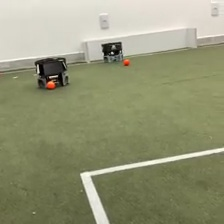ball: (45, 79, 56, 91), (122, 56, 130, 66)
goal: (82, 24, 199, 65)
robot: (32, 55, 72, 91), (99, 40, 124, 64)
